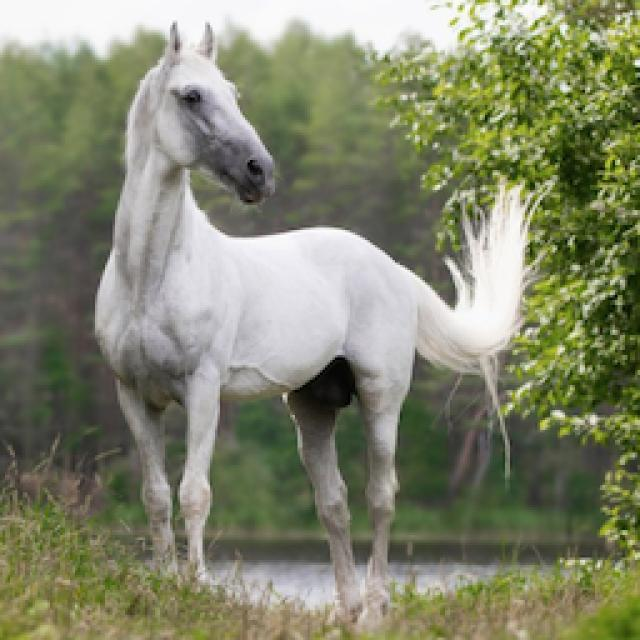Horse: (85, 15, 550, 633)
